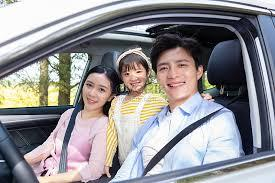Awake: (152, 37, 204, 101), (81, 62, 118, 113), (119, 46, 150, 96)
